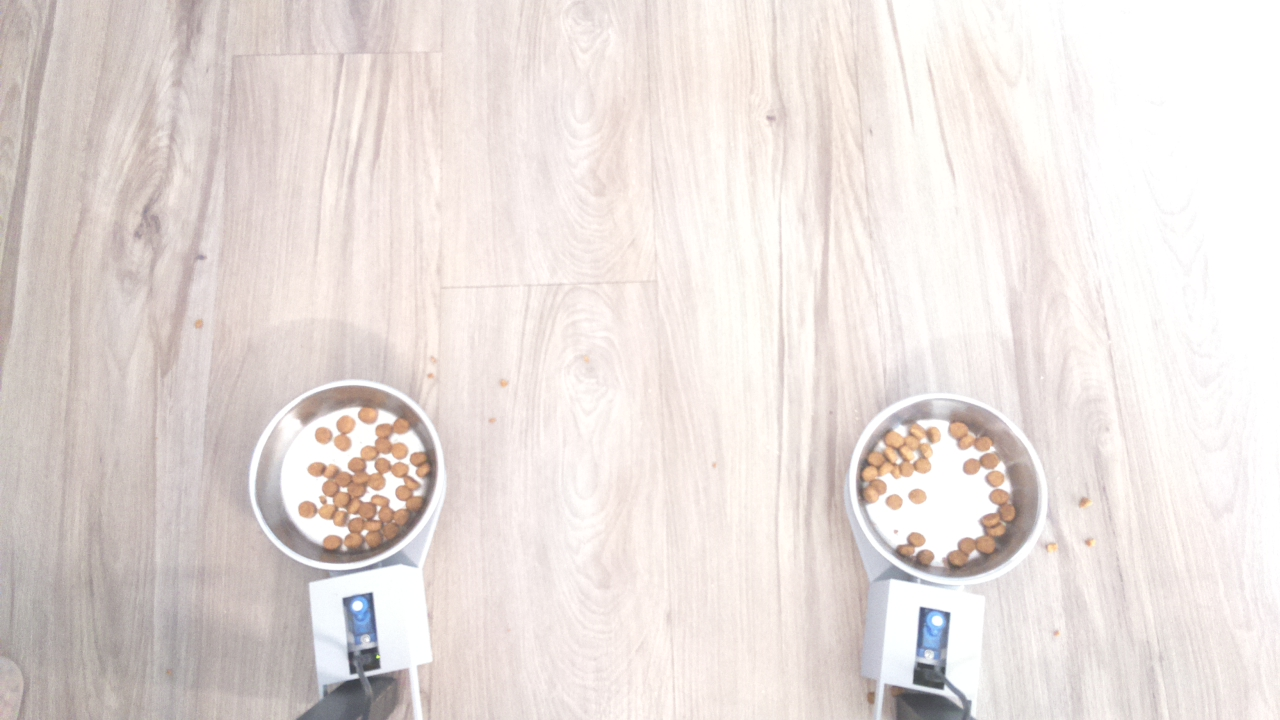open_bowl: (842, 385, 1058, 589), (245, 373, 450, 573)
